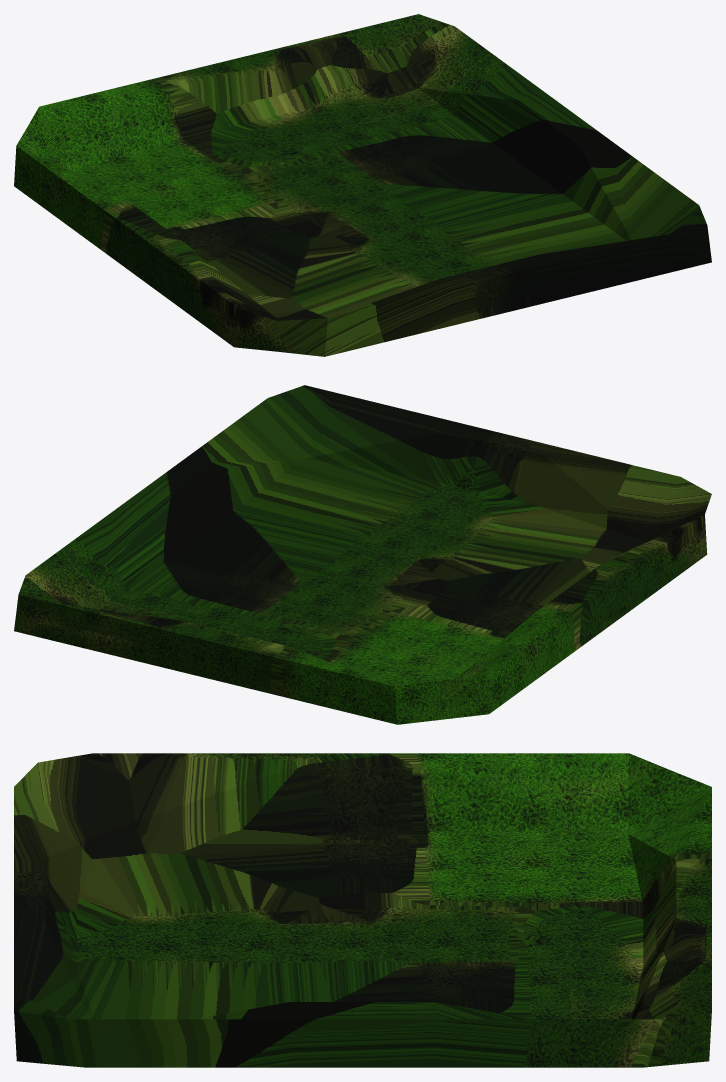
The model's file is FieldModified.FBX.
3 renders of one model, top to bottom at view 1: azimuth 30°, elevation 25°; view 2: azimuth 150°, elevation 25°; view 3: azimuth 270°, elevation 25°, orthographic. The views are drawn at different scales.
Visible parts, largest first — view 1: Plane001; view 2: Plane001; view 3: Plane001.
Part boxes in pixels (x1,y1,x2,y2): Plane001: [14, 14, 711, 356]; Plane001: [14, 385, 711, 724]; Plane001: [14, 753, 711, 1067].
Bounding box in the file's own units: 529 × 43.39 × 580.
Materials: 1 (1 with a texture image).
